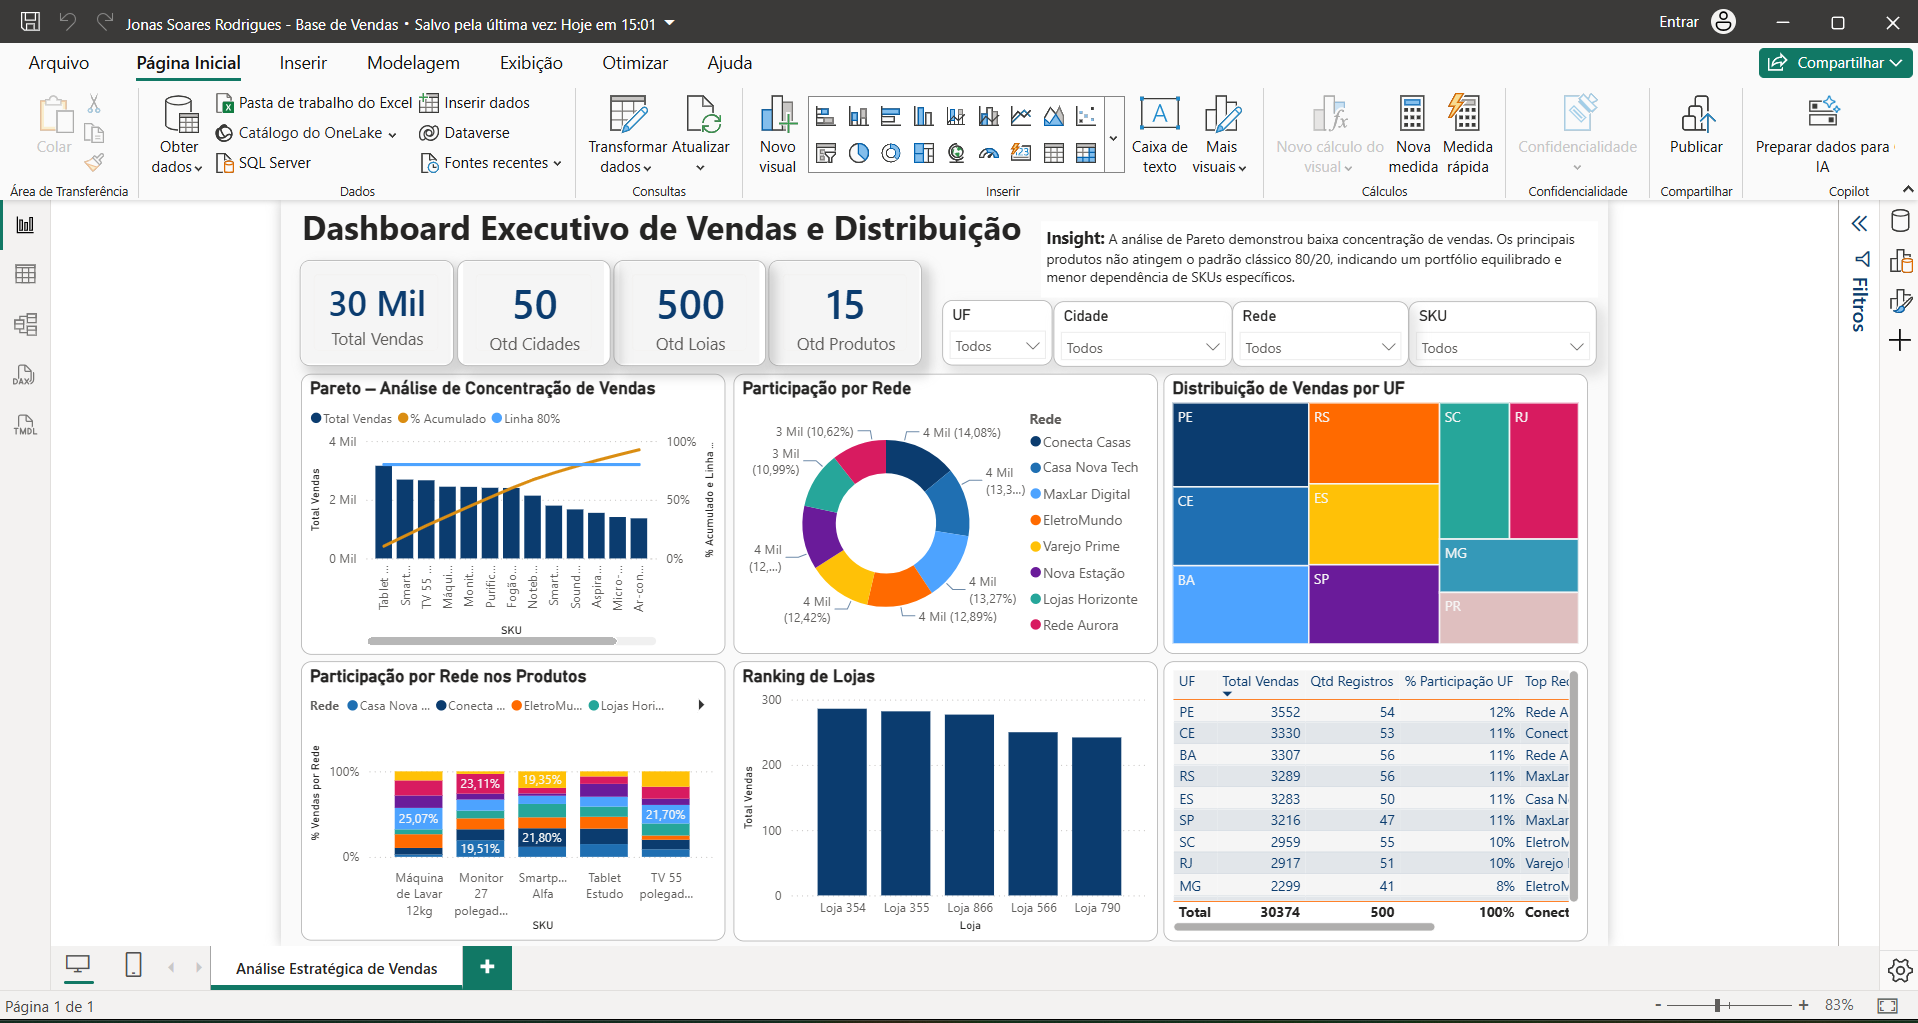

What the dashboard file says about the page in this screenshot:
{"tool":"powerbi","page":{"name":"Análise Estratégica de Vendas","canvas":[1280,720],"ordinal":0},"visuals":[{"type":"textbox","box":[18.8,0,705.5,69.3],"z":0},{"type":"cardVisual","fields":{"Data":["Medidas.Total Vendas"]},"box":[17.8,58.3,148.6,102.4],"z":0,"group":"g3"},{"type":"cardVisual","fields":{"Data":["Medidas.Qtd Produtos"]},"box":[470.5,57.9,148.4,102.5],"z":1000,"group":"g3"},{"type":"group","id":"g1","title":"Grupo 1","box":[638.4,96.5,631.7,65],"z":1000},{"type":"cardVisual","fields":{"Data":["Medidas.Qtd Lojas"]},"box":[320.5,57.9,147.2,102.5],"z":2000,"group":"g3"},{"type":"group","id":"g2","title":"Grupo 3","box":[18.8,167.4,1242.2,547],"z":2000},{"type":"cardVisual","fields":{"Data":["Medidas.Qtd Cidades"]},"box":[169.3,57.9,148.4,102.5],"z":3000,"group":"g3"},{"type":"group","id":"g3","title":"Grupo 2","box":[17.8,57.9,601.1,102.9],"z":4000},{"type":"textbox","box":[733.3,21.1,537.8,73.3],"z":5000},{"type":"donutChart","title":"Participação por Rede","fields":{"Category":["Dim_Lojas.Rede"],"Y":["Medidas.Total Vendas"]},"box":[435.8,167.4,409.7,270],"z":5000,"group":"g2"},{"type":"lineClusteredColumnComboChart","title":"Pareto – Análise de Concentração de Vendas","fields":{"Category":["Dim_Produtos.SKU"],"Y":["Medidas.Total Vendas"],"Y2":["Medidas.% Acumulado","Medidas.Linha 80%"]},"box":[18.8,167.4,409.7,271.2],"z":6000,"group":"g2"},{"type":"columnChart","title":"Participação por Rede nos Produtos","fields":{"Category":["Dim_Produtos.SKU"],"Series":["Dim_Lojas.Rede"],"Y":["Medidas.% Vendas por Rede"]},"box":[18.8,444.4,409.7,269.8],"z":7000,"group":"g2"},{"type":"columnChart","title":"Ranking de Lojas","fields":{"Category":["Dim_Lojas.Loja"],"Y":["Medidas.Total Vendas"]},"box":[435.8,444.4,409.7,270],"z":9000,"group":"g2"},{"type":"treemap","title":"Distribuição de Vendas por UF","fields":{"Group":["Dim_Lojas.UF"],"Values":["Medidas.Total Vendas"]},"box":[851.3,167.4,409.7,270],"z":10000,"group":"g2"},{"type":"tableEx","fields":{"Values":["Dim_Lojas.UF","Medidas.Total Vendas","Medidas.Qtd Registros","Medidas.% Participação UF","Medidas.Top Rede","Medidas.Top Produto"]},"box":[851.3,444.4,409.7,270],"z":11000,"group":"g2"},{"type":"slicer","fields":{"Values":["Dim_Lojas.UF"]},"box":[638.4,96.5,106.7,63.3],"z":12000,"group":"g1"},{"type":"slicer","fields":{"Values":["Dim_Produtos.SKU"]},"box":[1088.7,97.2,181.8,63.5],"z":13000,"group":"g1"},{"type":"slicer","fields":{"Values":["Dim_Lojas.Cidade"]},"box":[745.3,97.2,173.1,63.5],"z":14000,"group":"g1"},{"type":"slicer","fields":{"Values":["Dim_Lojas.Rede"]},"box":[918.4,97.2,170.2,63.5],"z":15000,"group":"g1"}]}

Visuals, with their boxes on the page's 1280x720 design canvas (x1, y1, x2, y2). These are canvas units, not pixel positions in the 1918x1023 screenshot, which may show the page scaled, cropped or inside an application window:
textbox: [19,0,724,69]
cardVisual - Medidas.Total Vendas: [18,58,166,161]
cardVisual - Medidas.Qtd Produtos: [470,58,619,160]
"Grupo 1" group: [638,96,1270,162]
cardVisual - Medidas.Qtd Lojas: [320,58,468,160]
"Grupo 3" group: [19,167,1261,714]
cardVisual - Medidas.Qtd Cidades: [169,58,318,160]
"Grupo 2" group: [18,58,619,161]
textbox: [733,21,1271,94]
"Participação por Rede" donutChart: [436,167,846,437]
"Pareto – Análise de Concentração de Vendas" lineClusteredColumnComboChart: [19,167,428,439]
"Participação por Rede nos Produtos" columnChart: [19,444,428,714]
"Ranking de Lojas" columnChart: [436,444,846,714]
"Distribuição de Vendas por UF" treemap: [851,167,1261,437]
tableEx - Dim_Lojas.UF x Medidas.Total Vendas: [851,444,1261,714]
slicer - Dim_Lojas.UF: [638,96,745,160]
slicer - Dim_Produtos.SKU: [1089,97,1270,161]
slicer - Dim_Lojas.Cidade: [745,97,918,161]
slicer - Dim_Lojas.Rede: [918,97,1089,161]
